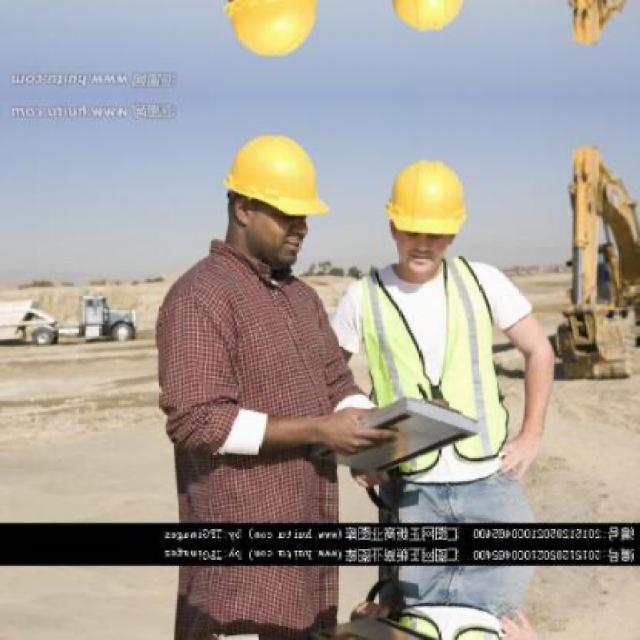helmet: (210, 117, 332, 278), (378, 144, 476, 282), (208, 0, 332, 76), (379, 0, 477, 49)
